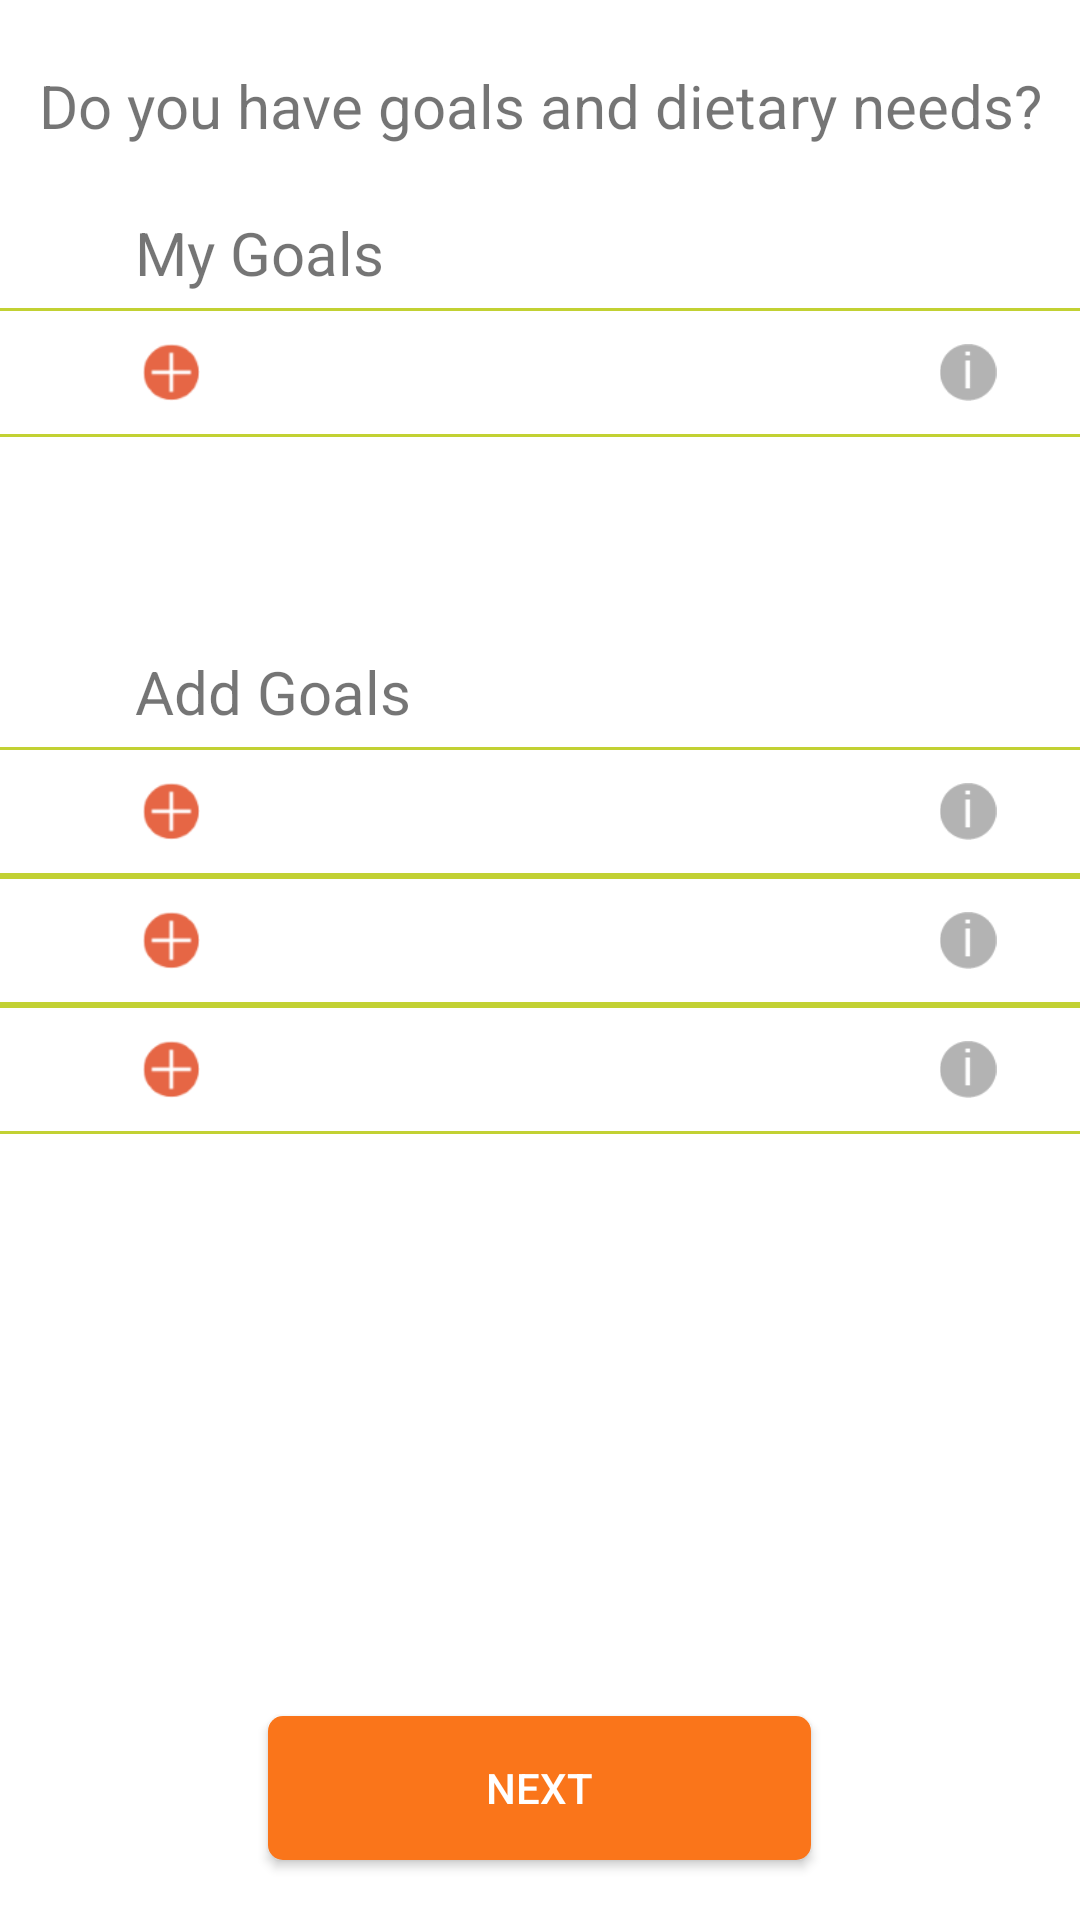

Icons on this 1080 x 1920 Android screen, each with the point to tap as point (x, y):
info: point (968, 372), point (968, 811), point (968, 940), point (968, 1069)
plus: point (171, 372), point (171, 811), point (171, 940), point (171, 1069)
